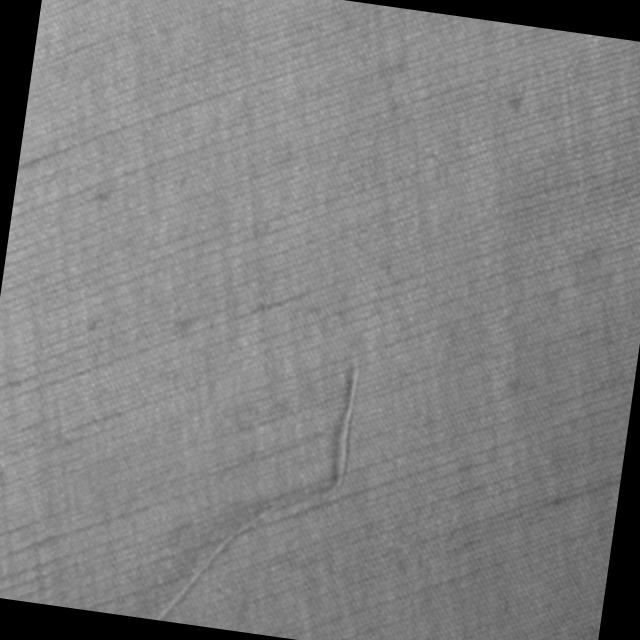Thread: (155, 336, 365, 640)
